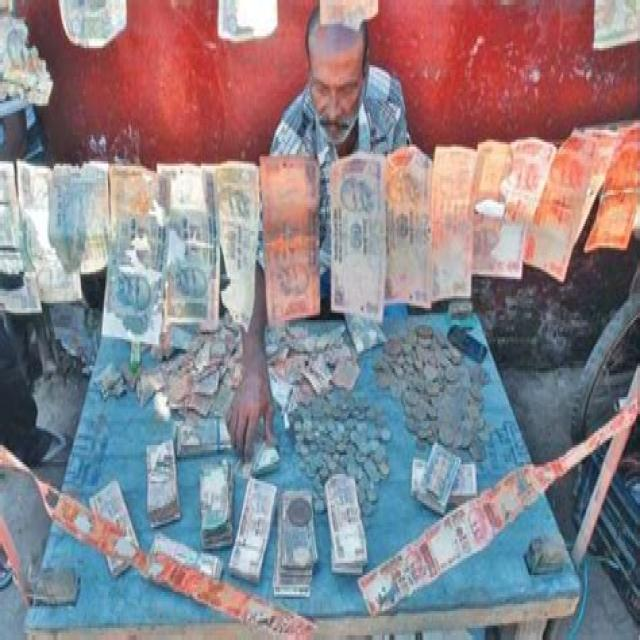banknote: (526, 128, 614, 286), (102, 160, 173, 352), (152, 158, 218, 332), (326, 144, 390, 320), (261, 152, 325, 326), (14, 158, 86, 305), (493, 130, 557, 273), (385, 142, 432, 322), (432, 136, 480, 311), (215, 164, 265, 328), (582, 123, 636, 262), (0, 167, 48, 315), (228, 468, 278, 583), (407, 442, 486, 511), (322, 464, 373, 570), (89, 475, 139, 579), (276, 477, 316, 587), (139, 431, 182, 528), (194, 451, 235, 545)
